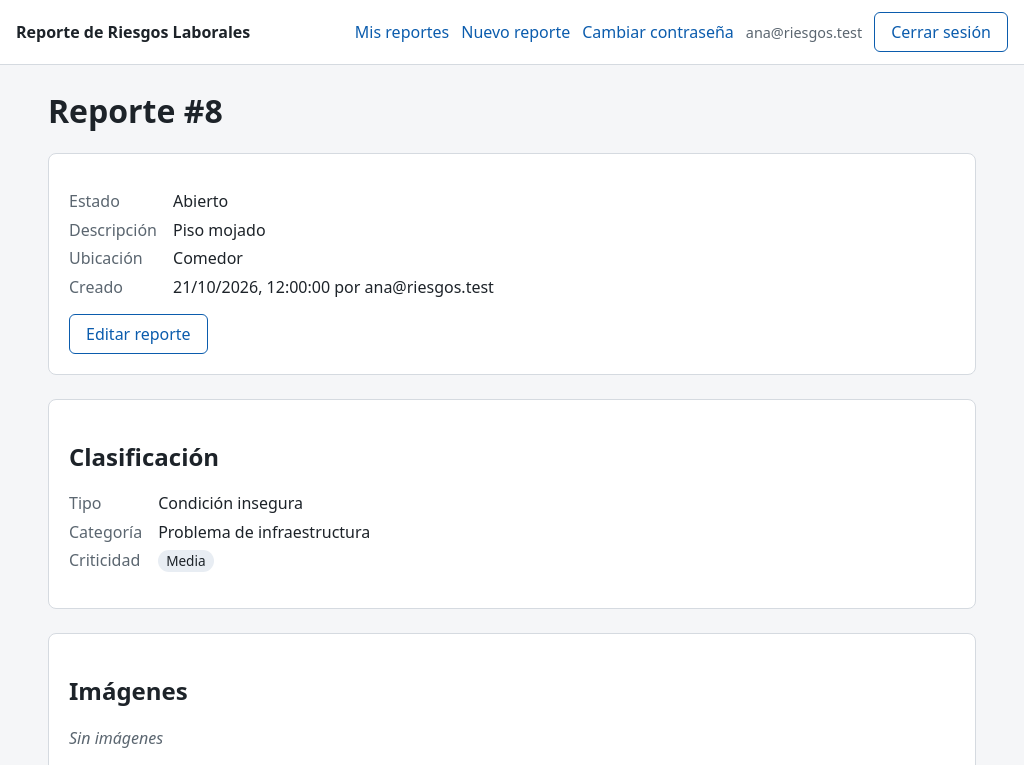
Scenario: Edición › el creador edita un reporte Abierto y se guarda
Click the button "Editar reporte" at (138, 334), box top-left (69, 314), bottom-right (208, 354)
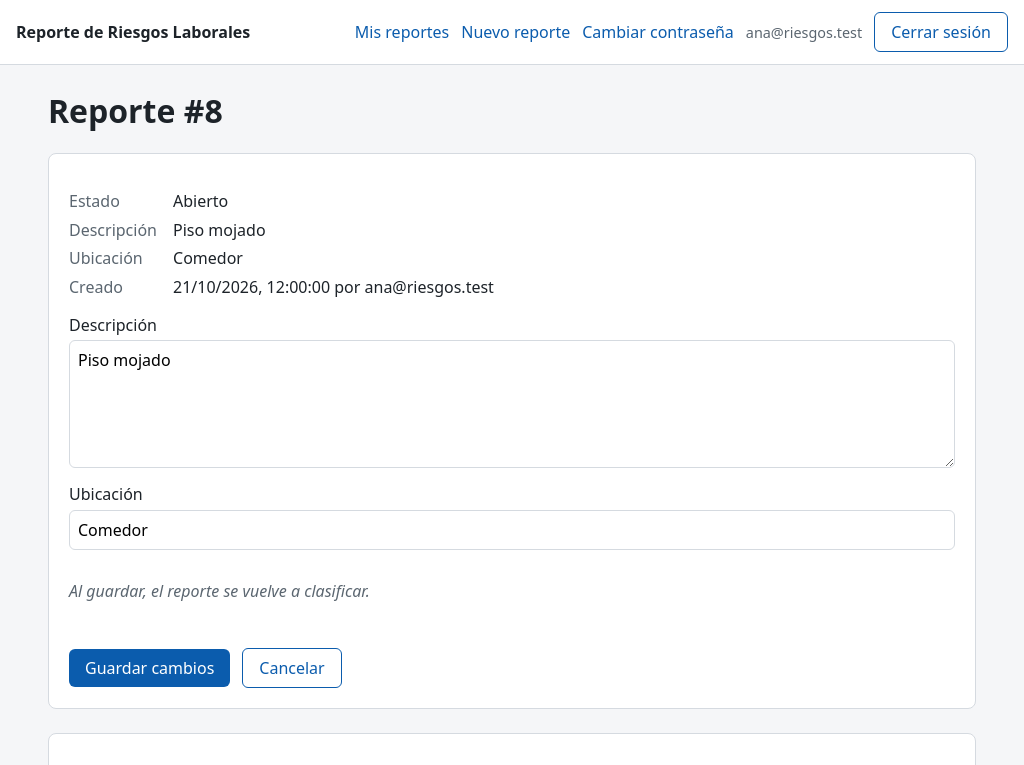
Replace the text in the text box labelled "Descripción" with "Piso mojado y sin cartel" at (512, 404), box top-left (69, 340), bottom-right (955, 468)
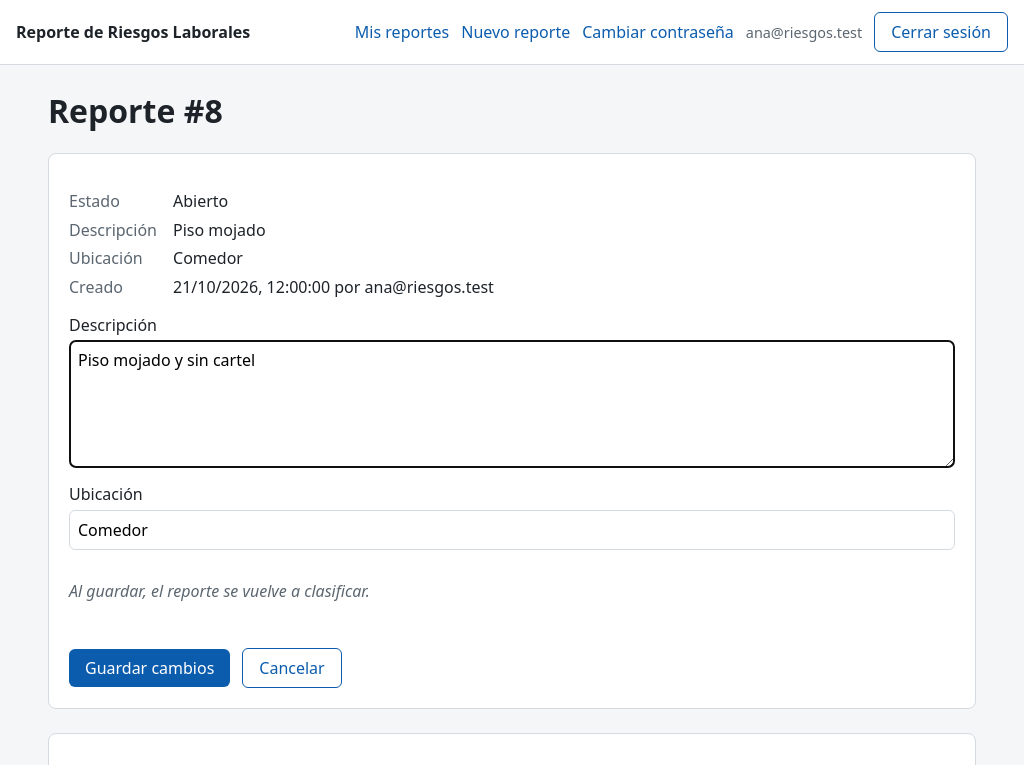
Click the button "Guardar cambios" at (150, 668), box top-left (69, 649), bottom-right (230, 687)
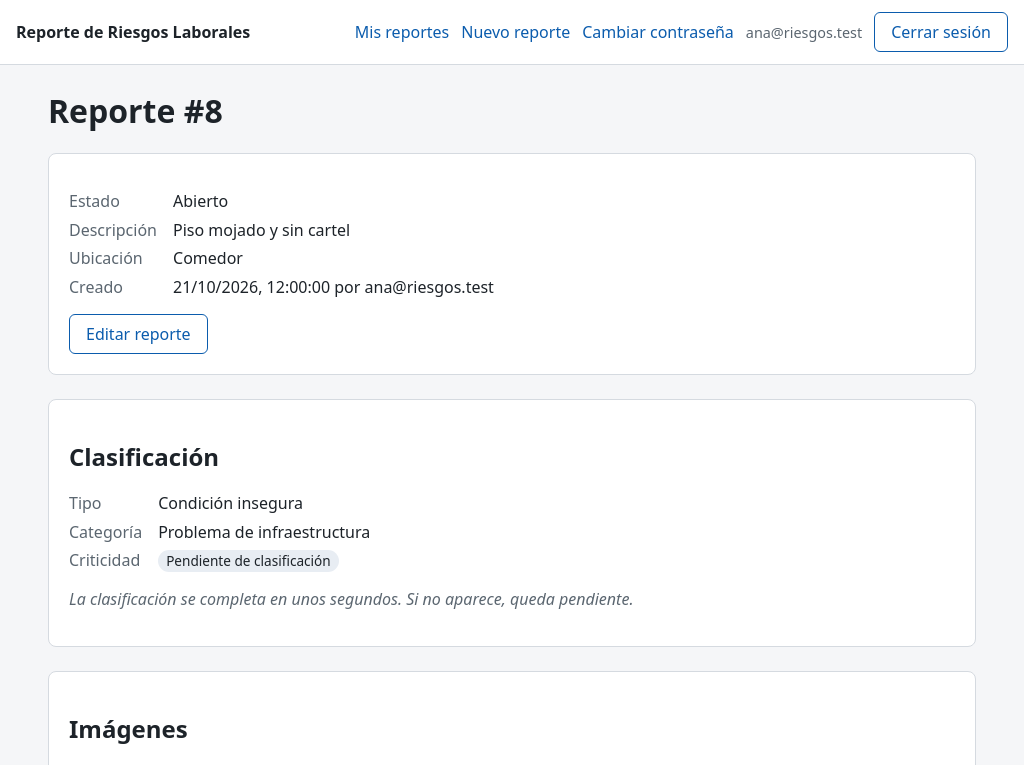
Now the text "Piso mojado y sin cartel" is shown, box top-left (173, 219), bottom-right (350, 241)
